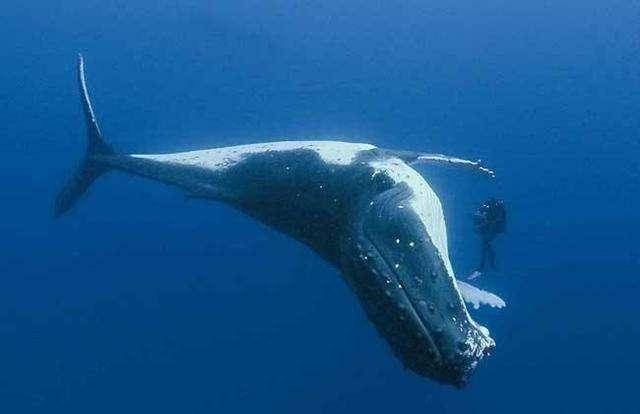fish: (42, 51, 501, 379)
